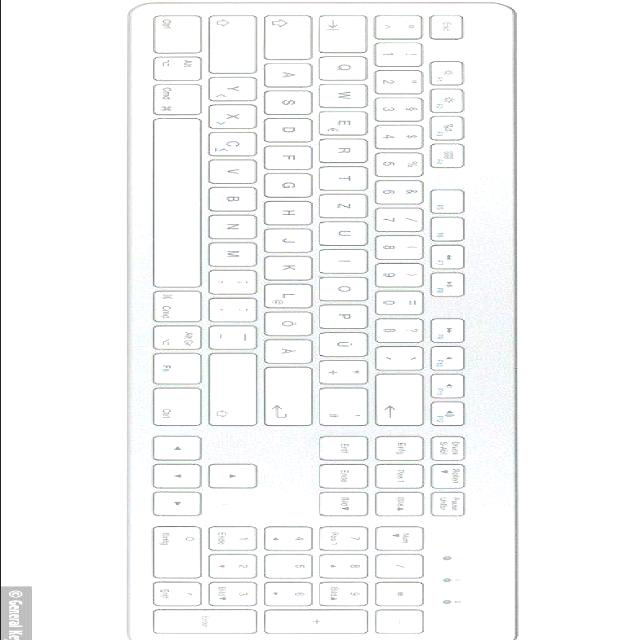0: (377, 289, 426, 314)
1: (377, 41, 426, 66)
2: (377, 68, 426, 93)
3: (377, 96, 426, 121)
4: (377, 123, 426, 147)
5: (377, 151, 426, 175)
6: (377, 179, 426, 203)
7: (377, 206, 426, 230)
8: (377, 234, 426, 258)
9: (377, 262, 426, 287)
a: (267, 61, 317, 86)
accent: (379, 345, 427, 369)
ae: (267, 338, 317, 362)
alt-left: (154, 55, 204, 81)
altgr-right: (154, 324, 206, 350)
b: (211, 185, 261, 210)
c: (211, 131, 260, 156)
caret: (377, 14, 426, 38)
comma: (211, 269, 260, 293)
d: (267, 117, 317, 141)
del: (377, 372, 426, 424)
e: (322, 109, 372, 134)
enter: (267, 365, 317, 425)
f: (267, 145, 317, 169)
g: (267, 172, 317, 196)
h: (267, 200, 317, 224)
hash: (319, 386, 369, 425)
i: (322, 248, 372, 272)
j: (267, 228, 317, 252)
k: (267, 254, 317, 279)
keyboard: (123, 1, 521, 640)
l: (267, 283, 317, 307)
m: (211, 241, 261, 265)
minus: (211, 324, 260, 349)
n: (211, 213, 260, 238)
o: (322, 276, 372, 300)
oe: (267, 311, 317, 335)
p: (322, 304, 372, 328)
plus: (322, 359, 372, 383)
point: (211, 297, 260, 321)
q: (322, 54, 372, 80)
r: (322, 137, 372, 162)
s: (267, 89, 317, 113)
shift-left: (211, 13, 263, 73)
shift-lock: (266, 13, 315, 58)
shift-right: (211, 351, 261, 425)
space: (154, 115, 206, 289)
ss: (377, 317, 426, 342)
strg-left: (152, 14, 204, 53)
strg-right: (154, 385, 204, 427)
t: (322, 165, 372, 189)
tab: (322, 13, 372, 52)
u: (322, 220, 372, 244)
ue: (322, 331, 372, 355)
v: (211, 158, 261, 183)
w: (322, 83, 372, 107)
x: (211, 103, 261, 128)
y: (211, 75, 261, 100)
z: (322, 193, 371, 217)
